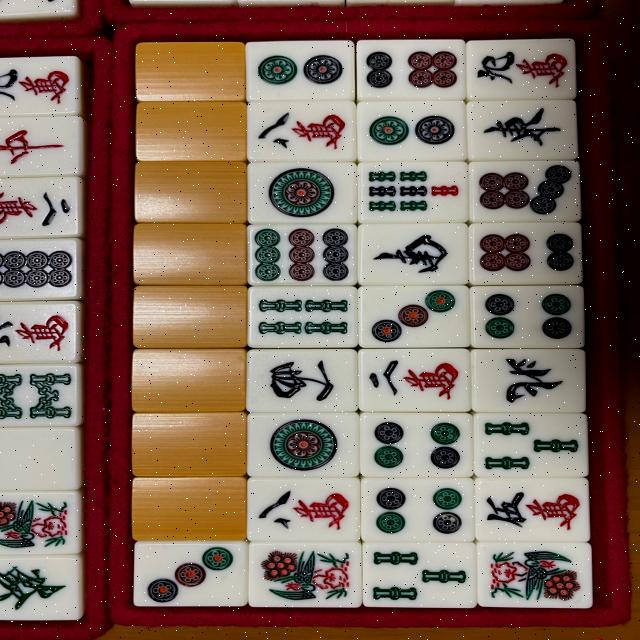bamboos_1: (246, 542, 364, 609), (476, 544, 594, 610)
bamboos_3: (361, 541, 479, 608), (474, 413, 592, 479)
bamboos_4: (244, 286, 362, 352)
bamboos_7: (359, 164, 476, 230)
characters_2: (354, 348, 472, 415)
characters_5: (474, 476, 591, 543)
characters_8: (246, 95, 364, 162), (243, 478, 361, 544)
characters_9: (463, 36, 581, 103)
circles_1: (240, 411, 358, 478), (245, 159, 364, 225)
circles_2: (242, 34, 360, 101), (352, 96, 470, 162)
circles_3: (354, 285, 472, 352), (130, 544, 248, 610)
circles_4: (358, 411, 476, 477), (467, 284, 584, 350), (360, 476, 477, 542)
circles_6: (468, 220, 586, 287), (351, 36, 469, 102)
circles_7: (465, 158, 583, 225)
circles_9: (244, 222, 362, 289)
east: (462, 97, 580, 163)
north: (472, 348, 590, 415)
south: (356, 222, 474, 288)
west: (244, 347, 362, 413)
